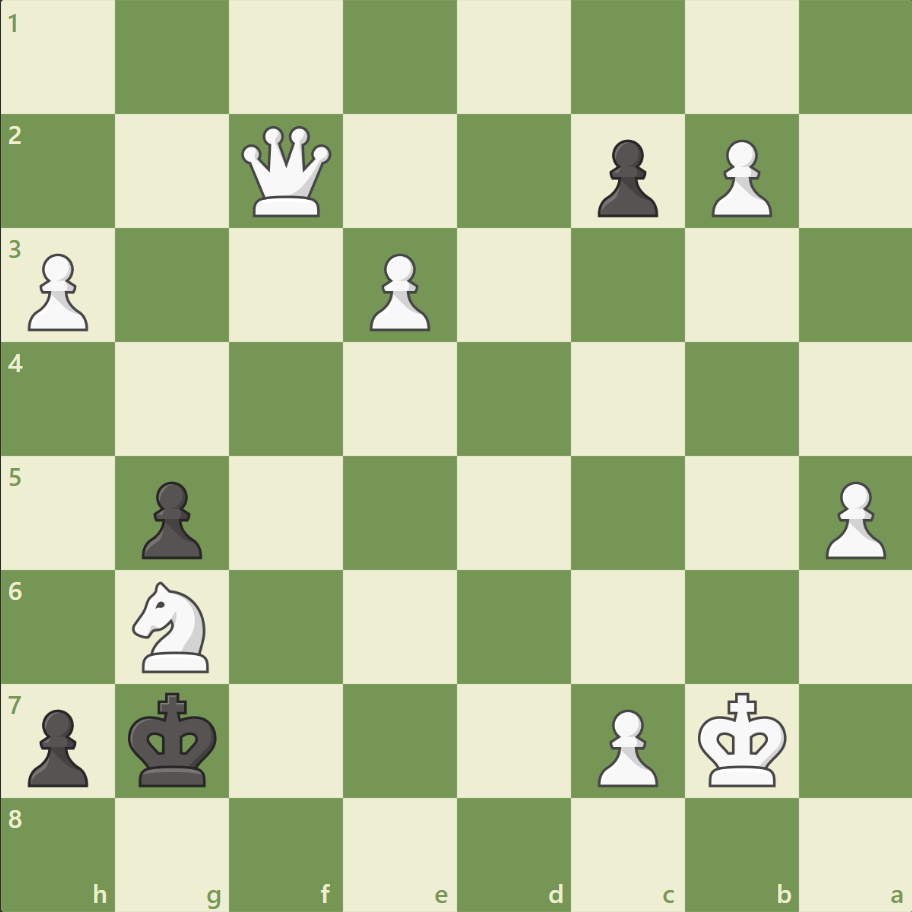K: (692, 685, 792, 793)
N: (124, 575, 222, 677)
P: (20, 246, 95, 337), (701, 132, 776, 223), (588, 700, 662, 791), (815, 473, 889, 564), (361, 246, 435, 337)
Q: (237, 122, 336, 222)
k: (124, 685, 224, 793)
p: (20, 700, 95, 791), (133, 473, 208, 564), (588, 132, 662, 223)
